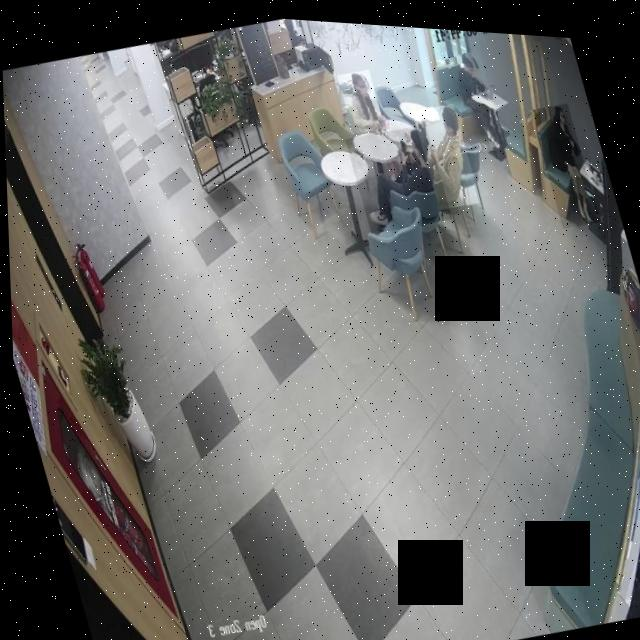person: (343, 114, 451, 232), (528, 93, 599, 222), (411, 94, 480, 206), (446, 42, 505, 148), (336, 62, 384, 130)
